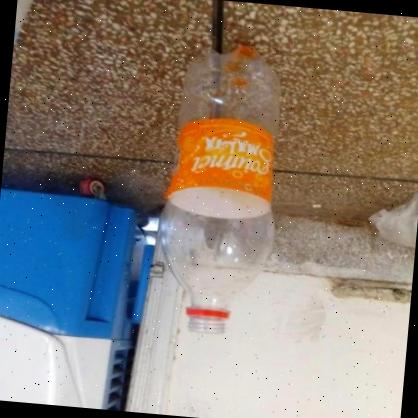bottle: (144, 35, 302, 350)
label: (166, 117, 286, 214)
